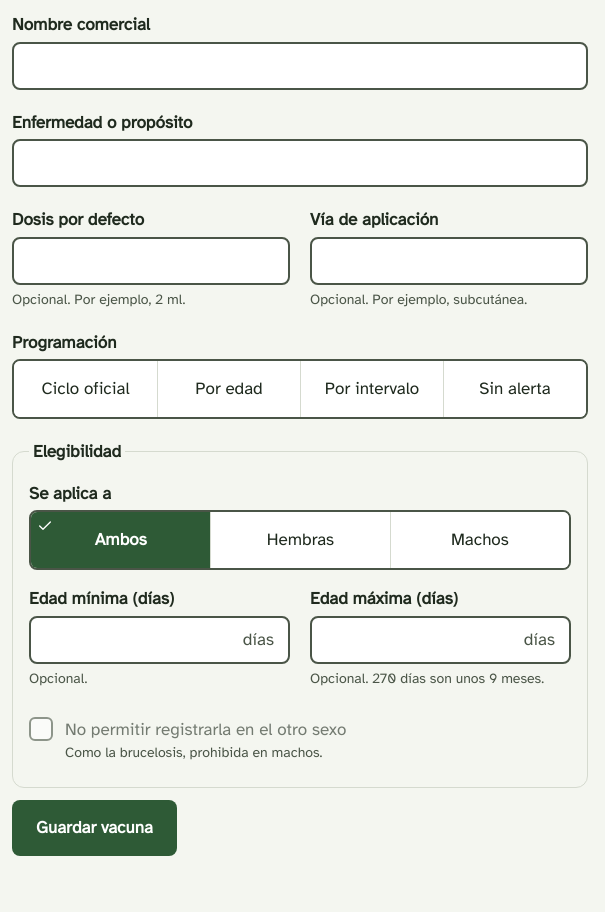
VaccineForm › el intervalo solo aparece en las vacunas por intervalo
The width and height of the screenshot is (605, 912).
Expected: the field labelled "Repetir cada (días)" is not shown
Click the radio button labelled "Por intervalo" at [372, 389], box [300,361,443,417]
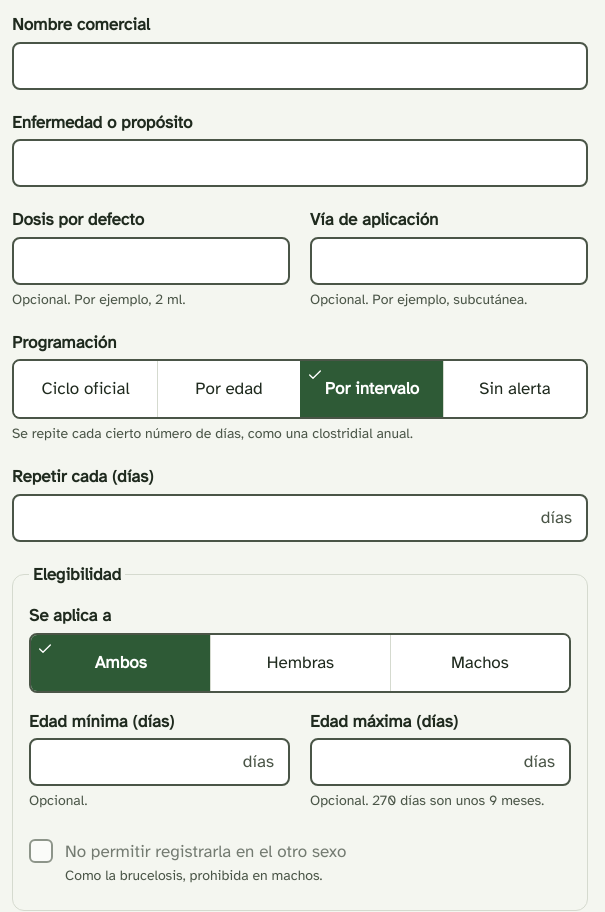
Expected: the field labelled "Repetir cada (días)" is shown, [12,494,588,542]
Click the radio button labelled "Ciclo oficial" at [86, 389], box [14,361,157,417]
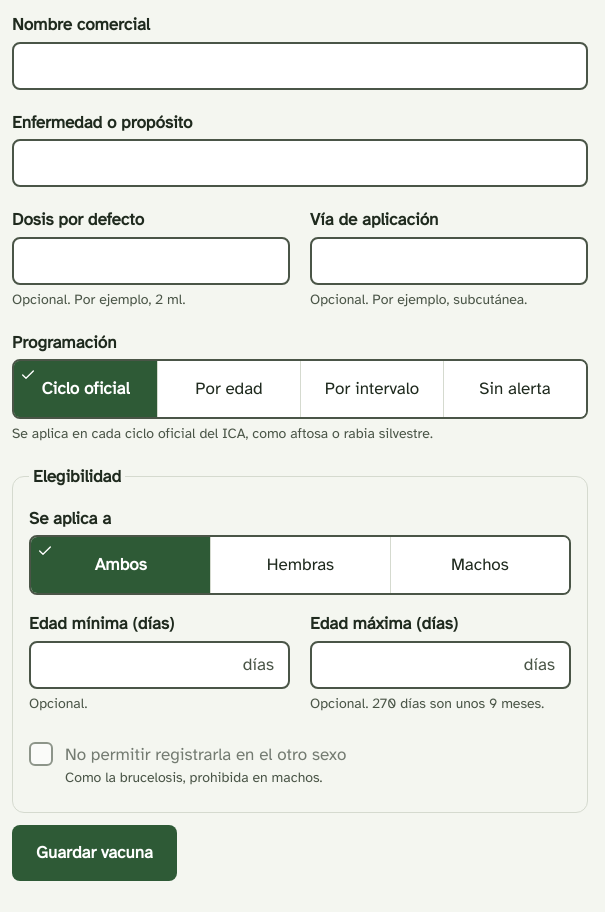
Expected: the label labelled "Repetir cada (días)" is gone
